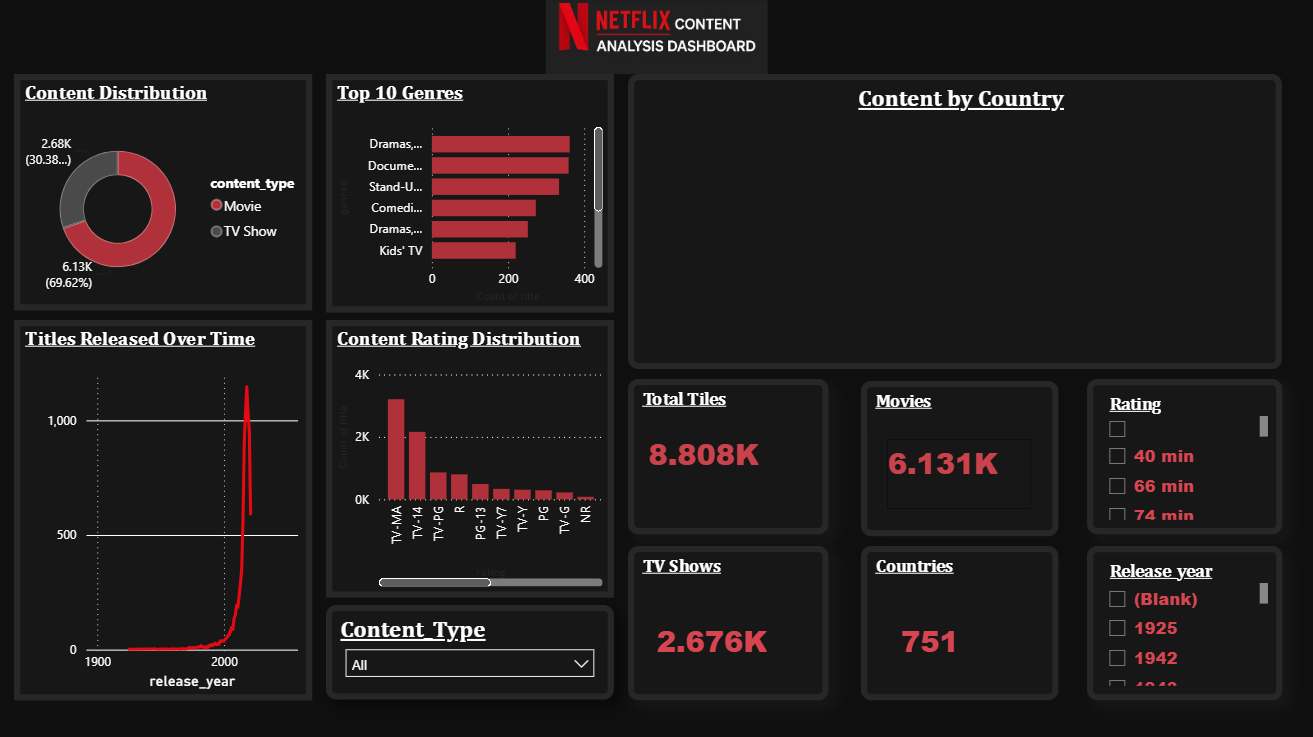

What the dashboard file says about the page in this screenshot:
{"tool":"powerbi","page":{"name":"Page 1","canvas":[1280,720],"ordinal":0},"visuals":[{"type":"donutChart","title":"Content Distribution","fields":{"Category":["netflix_cleaned (1).content_type"],"Y":["Count(netflix_cleaned (1).title)"]},"box":[14.6,72.9,289.8,229.5],"z":0},{"type":"lineChart","title":"Titles Released Over Time","fields":{"Category":["netflix_cleaned (1).release_year"],"Y":["Count(netflix_cleaned (1).title)"]},"box":[14.6,312.2,289.8,369.6],"z":1000},{"type":"clusteredBarChart","title":"Top 10 Genres","fields":{"Category":["netflix_cleaned (1).genres"],"Y":["Count(netflix_cleaned (1).title)"]},"box":[318.1,72.9,280.1,232.5],"z":2000},{"type":"clusteredColumnChart","title":"Content Rating Distribution","fields":{"Category":["netflix_cleaned (1).rating"],"Y":["CountNonNull(netflix_cleaned (1).title)"]},"box":[318.1,312.2,280.1,270.4],"z":3000},{"type":"filledMap","title":"Content by Country","fields":{"Category":["netflix_cleaned (1).country"]},"box":[611.8,72.9,636.1,286.9],"z":4000},{"type":"cardVisual","title":"Total Tiles","fields":{"Data":["CountNonNull(netflix_cleaned (1).title)"]},"box":[611.8,369.6,194.5,150.8],"z":5000},{"type":"cardVisual","title":"Countries","fields":{"Data":["Count(netflix_cleaned (1).country)"]},"box":[838.4,532,191.6,149.8],"z":6000},{"type":"cardVisual","title":"TV Shows","fields":{"Data":["CountNonNull(netflix_cleaned (1).title)"]},"box":[611.8,532,194.5,149.8],"z":7000},{"type":"cardVisual","title":"Movies","fields":{"Data":["CountNonNull(netflix_cleaned (1).title)"]},"box":[838,372,191.6,150.8],"z":8000},{"type":"slicer","title":"Content_Type","fields":{"Values":["netflix_cleaned (1).content_type"]},"box":[318.1,589.4,280.1,92.4],"z":9000},{"type":"slicer","fields":{"Values":["netflix_cleaned (1).release_year"]},"box":[1058.2,532,189.7,149.8],"z":10000},{"type":"slicer","fields":{"Values":["netflix_cleaned (1).rating"]},"box":[1058.2,369.6,189.7,150.8],"z":11000},{"type":"image","box":[48.8,0,1181.2,72.5],"z":12000}]}

Visuals, with their boxes in screenshot pixels (x1, y1, x2, y2), scaled from the page's 1280x720 canvas onto the 1313x737 screenshot:
"Content Distribution" donutChart: (left=15, top=75, right=312, bottom=310)
"Titles Released Over Time" lineChart: (left=15, top=320, right=312, bottom=698)
"Top 10 Genres" clusteredBarChart: (left=326, top=75, right=614, bottom=313)
"Content Rating Distribution" clusteredColumnChart: (left=326, top=320, right=614, bottom=596)
"Content by Country" filledMap: (left=628, top=75, right=1280, bottom=368)
"Total Tiles" cardVisual: (left=628, top=378, right=827, bottom=533)
"Countries" cardVisual: (left=860, top=545, right=1057, bottom=698)
"TV Shows" cardVisual: (left=628, top=545, right=827, bottom=698)
"Movies" cardVisual: (left=860, top=381, right=1056, bottom=535)
"Content_Type" slicer: (left=326, top=603, right=614, bottom=698)
slicer - netflix_cleaned (1).release_year: (left=1085, top=545, right=1280, bottom=698)
slicer - netflix_cleaned (1).rating: (left=1085, top=378, right=1280, bottom=533)
image: (left=50, top=0, right=1262, bottom=74)
